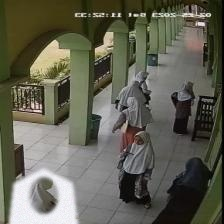Mukena: (6, 168, 80, 224)
